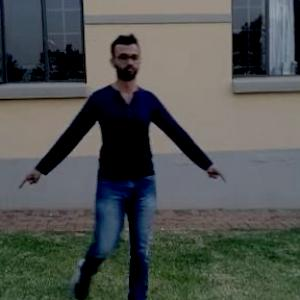land: (36, 44, 203, 292)
